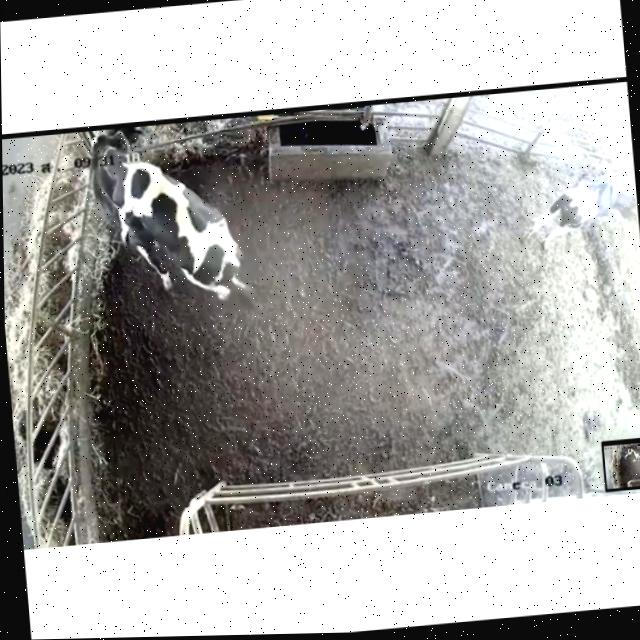ride: (80, 119, 267, 315)
